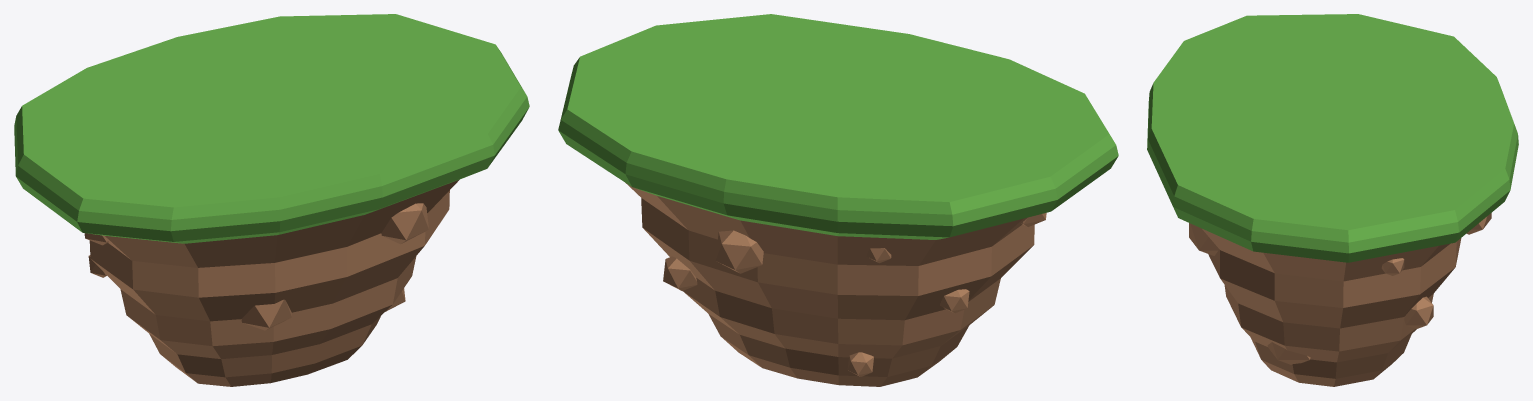
Rendered from Island-Round.fbx.
The picture shows the model from 3 angles, left to right: view 1: azimuth 30°, elevation 25°; view 2: azimuth 150°, elevation 25°; view 3: azimuth 270°, elevation 25°; orthographic projection. The views are drawn at different scales.
Visible parts, largest first — view 1: Grass, Soil, Icosphere.001, Icosphere; view 2: Grass, Soil, Icosphere.005, Icosphere.004, Icosphere.006, Icosphere.008; view 3: Grass, Soil, Icosphere.004, Icosphere.001, Icosphere.002.
Part boxes in pixels (x1,y1,x2,y2): Grass: (14, 14, 529, 243); Soil: (89, 179, 459, 386); Icosphere.001: (381, 203, 428, 244); Icosphere: (241, 299, 291, 330); Grass: (558, 14, 1118, 239); Soil: (626, 183, 1034, 386); Icosphere.005: (715, 230, 763, 273); Icosphere.004: (663, 256, 697, 290); Icosphere.006: (847, 352, 873, 376); Icosphere.008: (940, 289, 969, 313); Grass: (1147, 14, 1518, 262); Soil: (1202, 229, 1461, 386); Icosphere.004: (1404, 296, 1433, 328); Icosphere.001: (1189, 223, 1218, 255); Icosphere.002: (1267, 342, 1310, 364).
Size of the model in its own units: 849 by 403 by 596.
